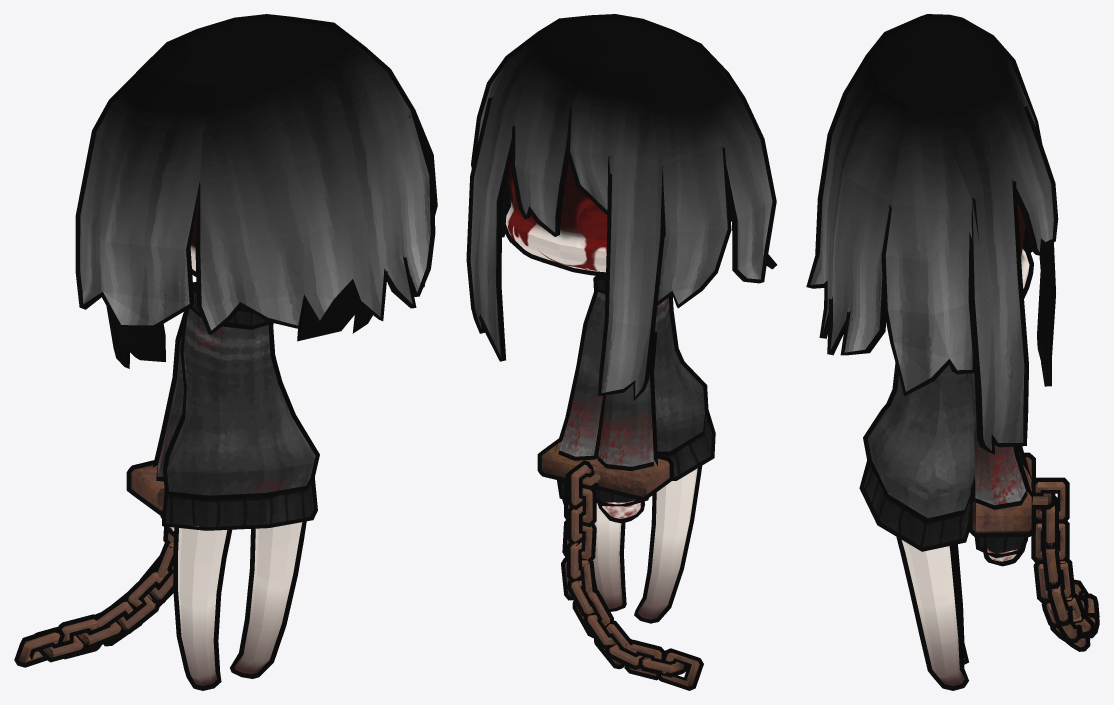
The model's file is chibigirl1.glb.
The picture shows the model from 3 angles, left to right: view 1: azimuth 30°, elevation 25°; view 2: azimuth 150°, elevation 25°; view 3: azimuth 270°, elevation 25°; orthographic projection. The views are drawn at different scales.
Visible parts, largest first — view 1: head; view 2: head; view 3: head.
Boxes of the visible parts, <box> form: head: <box>14,14,437,690</box>; head: <box>466,14,776,690</box>; head: <box>806,14,1099,690</box>.
Size of the model in its own units: 2.39 by 4.47 by 1.83.
2 materials, 1 textured.
